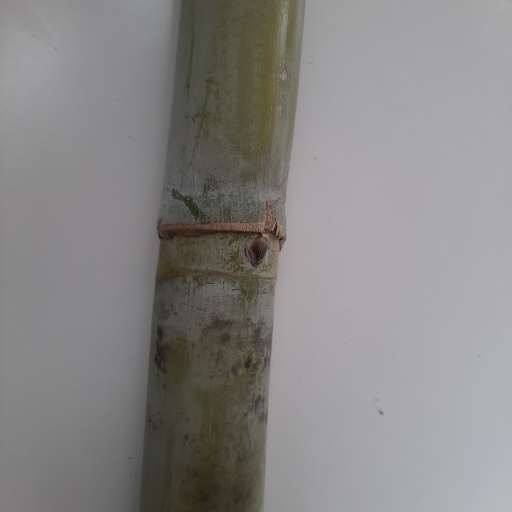Bud: (244, 235, 271, 267)
